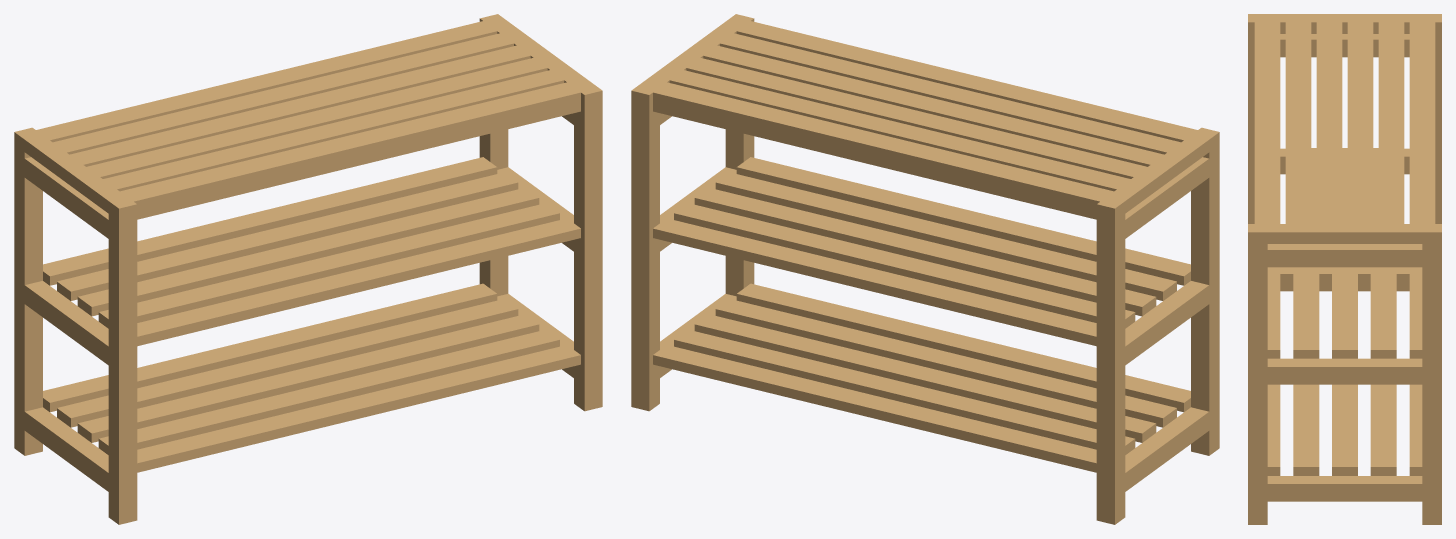
The model's file is 043_shoe_rack_bench.glb.
3 views of the same model, side by side, from view 1: azimuth 30°, elevation 25°; view 2: azimuth 150°, elevation 25°; view 3: azimuth 270°, elevation 25° (orthographic). The views are drawn at different scales.
Visible parts, largest first — view 1: 012_tier_3_slats_6, 010_tier_1_slats_5, 011_tier_2_slats_5, 000_end_frame_front, 005_end_frame_front, 001_end_frame_back, 013_seat_cap_l, 002_end_rail, 003_end_rail, 014_seat_cap_r, 004_end_rail, 006_end_frame_back (+2 smaller); view 2: 012_tier_3_slats_6, 010_tier_1_slats_5, 011_tier_2_slats_5, 001_end_frame_back, 006_end_frame_back, 000_end_frame_front, 013_seat_cap_l, 002_end_rail, 003_end_rail, 014_seat_cap_r, 004_end_rail, 005_end_frame_front (+2 smaller); view 3: 012_tier_3_slats_6, 011_tier_2_slats_5, 010_tier_1_slats_5, 005_end_frame_front, 006_end_frame_back, 008_end_rail, 007_end_rail, 014_seat_cap_r, 009_end_rail, 013_seat_cap_l, 002_end_rail, 000_end_frame_front (+3 smaller).
Boxes of the visible parts, <box> form: 012_tier_3_slats_6: <box>36,21,580,219</box>; 010_tier_1_slats_5: <box>43,283,580,472</box>; 011_tier_2_slats_5: <box>43,157,580,346</box>; 000_end_frame_front: <box>108,214,137,524</box>; 005_end_frame_front: <box>574,103,602,411</box>; 001_end_frame_back: <box>14,145,42,455</box>; 013_seat_cap_l: <box>14,127,137,221</box>; 002_end_rail: <box>24,407,108,491</box>; 003_end_rail: <box>24,281,108,365</box>; 014_seat_cap_r: <box>479,14,602,107</box>; 004_end_rail: <box>24,157,108,238</box>; 006_end_frame_back: <box>479,129,508,296</box>; 012_tier_3_slats_6: <box>653,21,1197,219</box>; 010_tier_1_slats_5: <box>653,283,1190,472</box>; 011_tier_2_slats_5: <box>653,157,1190,346</box>; 001_end_frame_back: <box>1096,214,1125,524</box>; 006_end_frame_back: <box>631,103,659,411</box>; 000_end_frame_front: <box>1191,145,1219,455</box>; 013_seat_cap_l: <box>1096,127,1219,221</box>; 002_end_rail: <box>1125,407,1209,491</box>; 003_end_rail: <box>1125,281,1209,365</box>; 014_seat_cap_r: <box>631,14,754,107</box>; 004_end_rail: <box>1125,157,1209,238</box>; 005_end_frame_front: <box>725,129,754,296</box>; 012_tier_3_slats_6: <box>1254,22,1435,223</box>; 011_tier_2_slats_5: <box>1267,148,1422,358</box>; 010_tier_1_slats_5: <box>1267,384,1422,475</box>; 005_end_frame_front: <box>1248,244,1267,524</box>; 006_end_frame_back: <box>1422,244,1441,524</box>; 008_end_rail: <box>1267,358,1422,384</box>; 007_end_rail: <box>1267,476,1422,501</box>; 014_seat_cap_r: <box>1248,224,1441,243</box>; 009_end_rail: <box>1267,244,1422,267</box>; 013_seat_cap_l: <box>1248,14,1441,33</box>; 002_end_rail: <box>1280,267,1409,291</box>; 000_end_frame_front: <box>1248,34,1254,223</box>.
Size of the model in its own units: 0.8 by 0.5 by 0.3.
